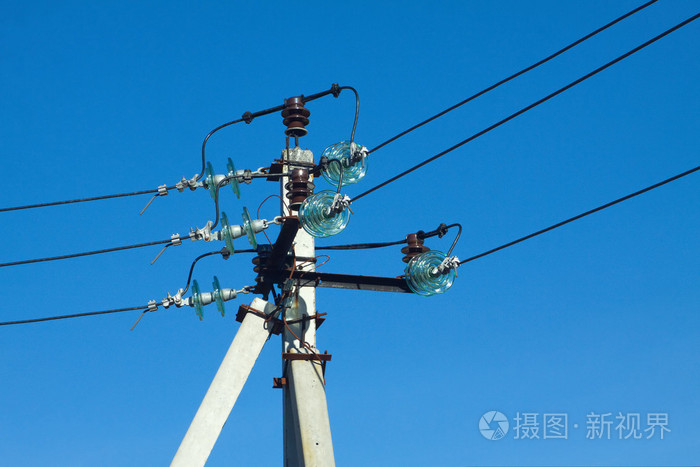insulator: (318, 138, 369, 187), (403, 248, 452, 299), (300, 190, 347, 238), (217, 203, 256, 258), (203, 156, 243, 203), (187, 272, 224, 320)
